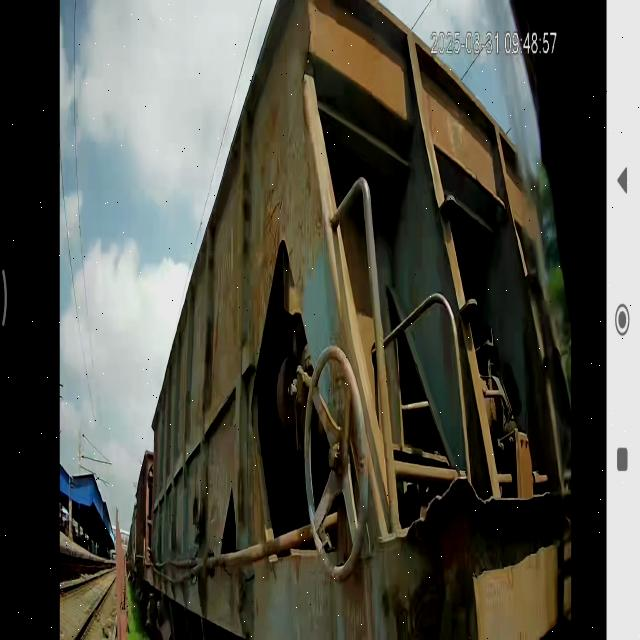coach: (153, 12, 350, 640)
